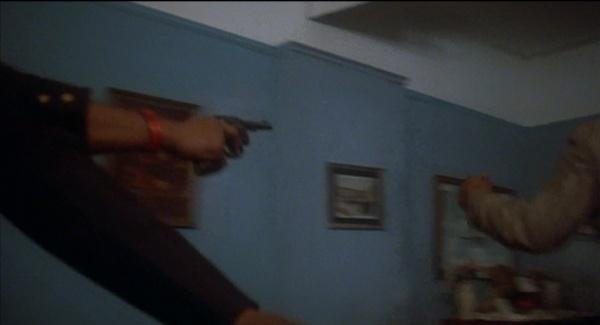Gun: (197, 117, 274, 174)
